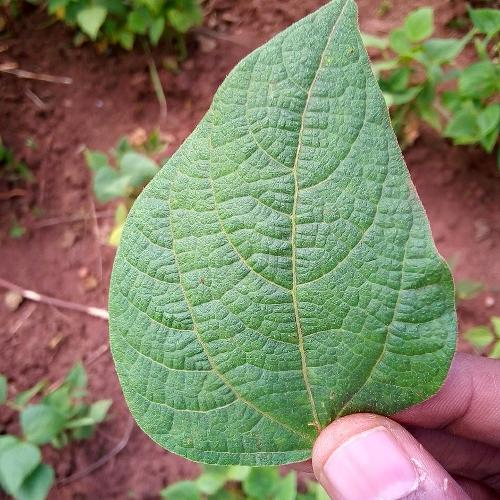sehat: (178, 210, 401, 390)
